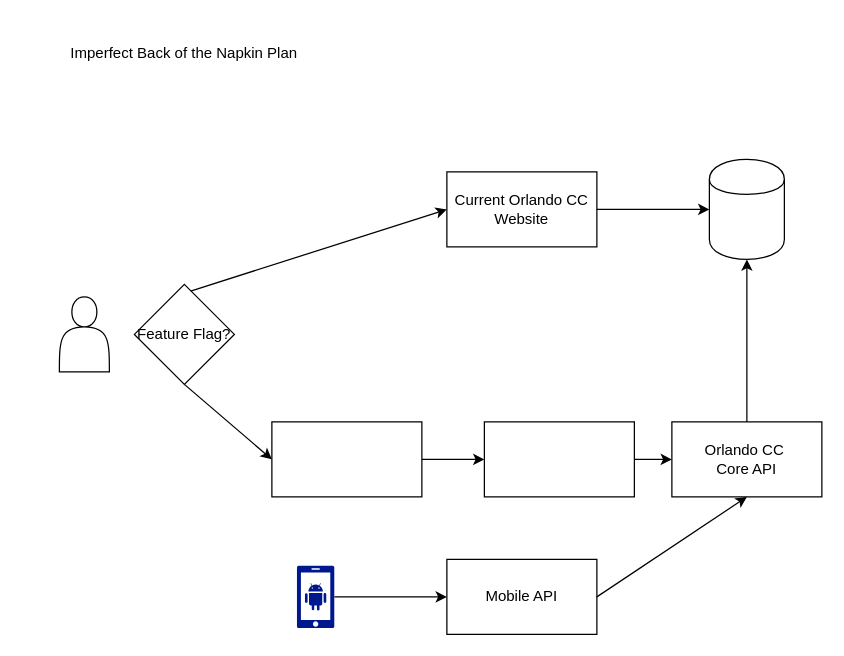
Some shapes in this 844 by 656 pixel diagram are drawn without their labels. The shapes that lost their labels are listed below. From the top down, each one's centre as x and y in pixels, then its label:
(x=346, y=459): Hipster SPA
(x=558, y=459): Web API
